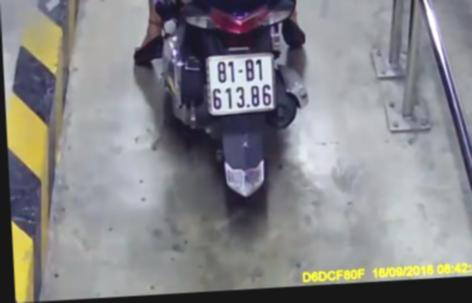License_Plate: (204, 48, 282, 122)
